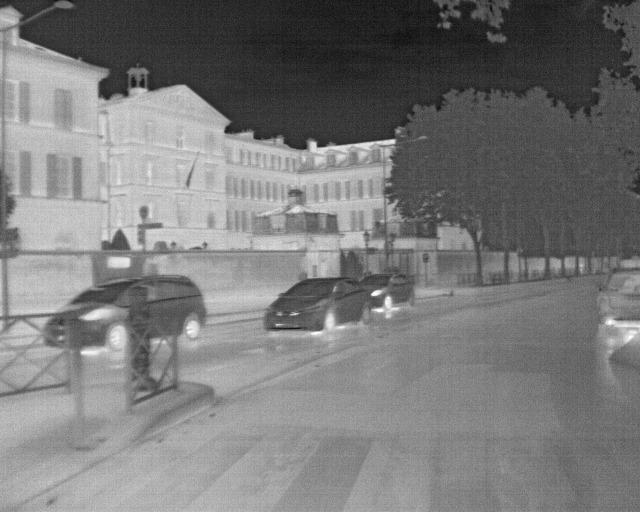car: (43, 274, 206, 353), (264, 277, 372, 332), (593, 269, 639, 355), (358, 274, 414, 310)
light: (137, 225, 144, 244)
sign: (139, 206, 148, 219), (146, 223, 164, 228)
